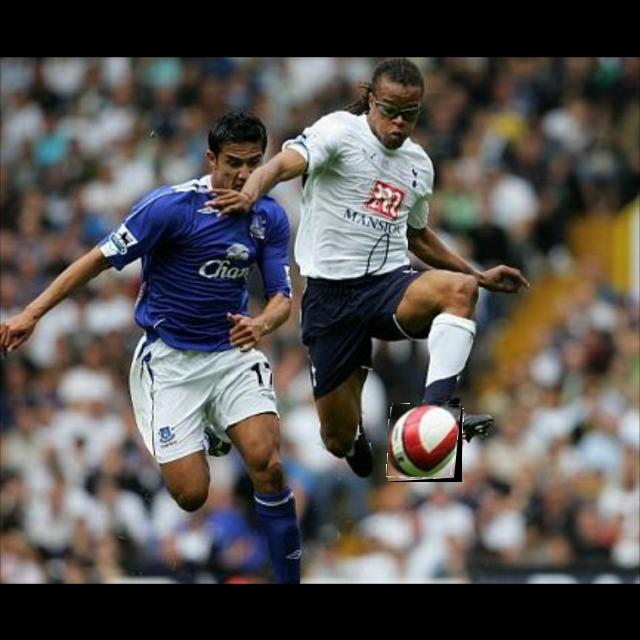Football: (388, 404, 462, 482)
